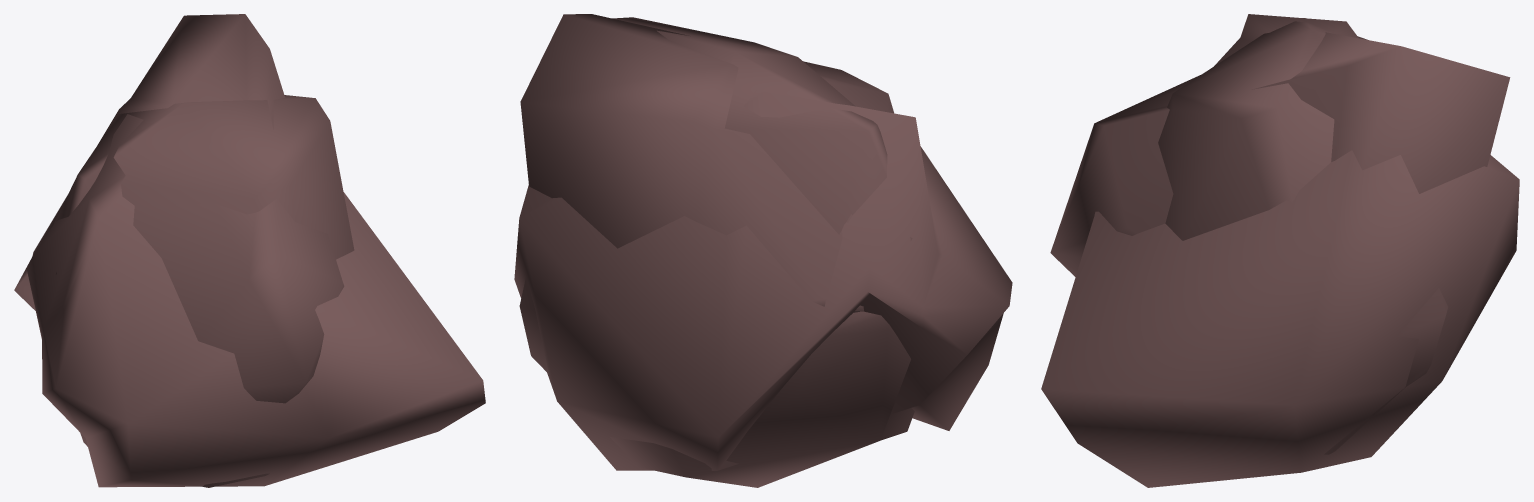
The model's file is rocks.fbx.
3 views of the same model, side by side, from view 1: azimuth 30°, elevation 25°; view 2: azimuth 150°, elevation 25°; view 3: azimuth 270°, elevation 25° (orthographic). The views are drawn at different scales.
Visible parts, largest first — view 1: rock3, rock2, rock1; view 2: rock3, rock2, rock1; view 3: rock3, rock2, rock1.
Boxes of the visible parts, left/top/right/bottom form: rock3: left=14, top=114, right=485, bottom=487; rock2: left=32, top=14, right=344, bottom=403; rock1: left=54, top=95, right=354, bottom=487; rock3: left=514, top=90, right=1012, bottom=470; rock2: left=520, top=14, right=893, bottom=312; rock1: left=519, top=17, right=914, bottom=487; rock3: left=1041, top=14, right=1519, bottom=487; rock2: left=1050, top=32, right=1510, bottom=276; rock1: left=1158, top=18, right=1448, bottom=454.
Size of the model in its own units: 222 by 224 by 218.
